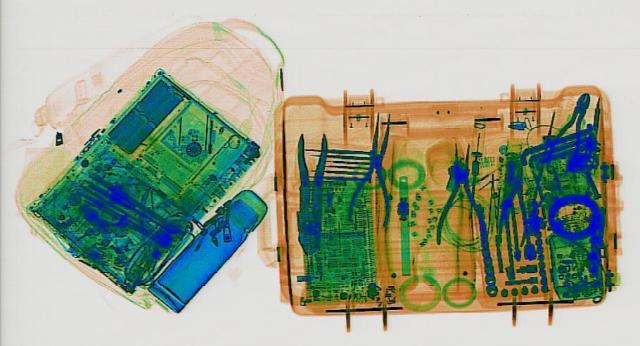Pliers: (343, 110, 405, 224), (430, 141, 494, 243), (536, 90, 606, 167), (294, 131, 326, 251)
